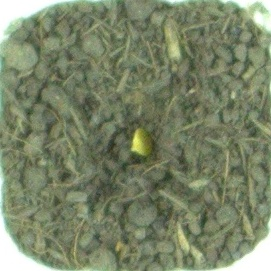chilli seed: (129, 124, 158, 160)
